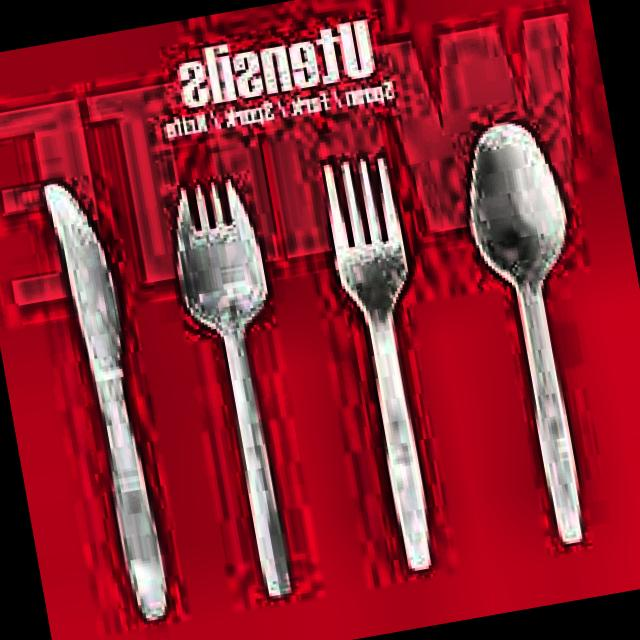plastic utensil: (48, 184, 167, 620), (179, 180, 292, 598), (472, 124, 583, 544), (322, 162, 431, 571)
